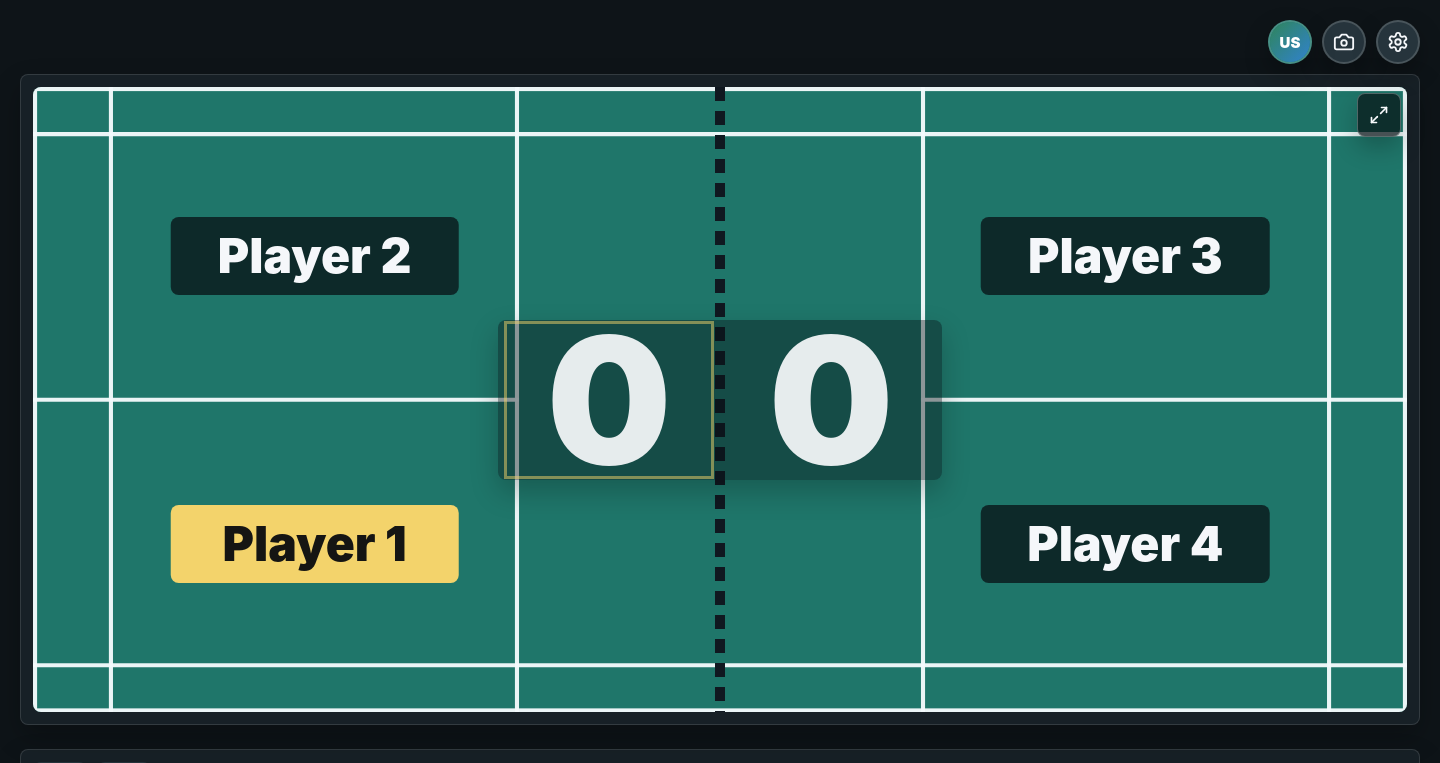
App › awards a point to Team A from the court score
What coordinates should you click on to do the following:
click the button named "award point to team a, score 0"
I would click on:
 (609, 400)
Its box is [498,320,720,480].
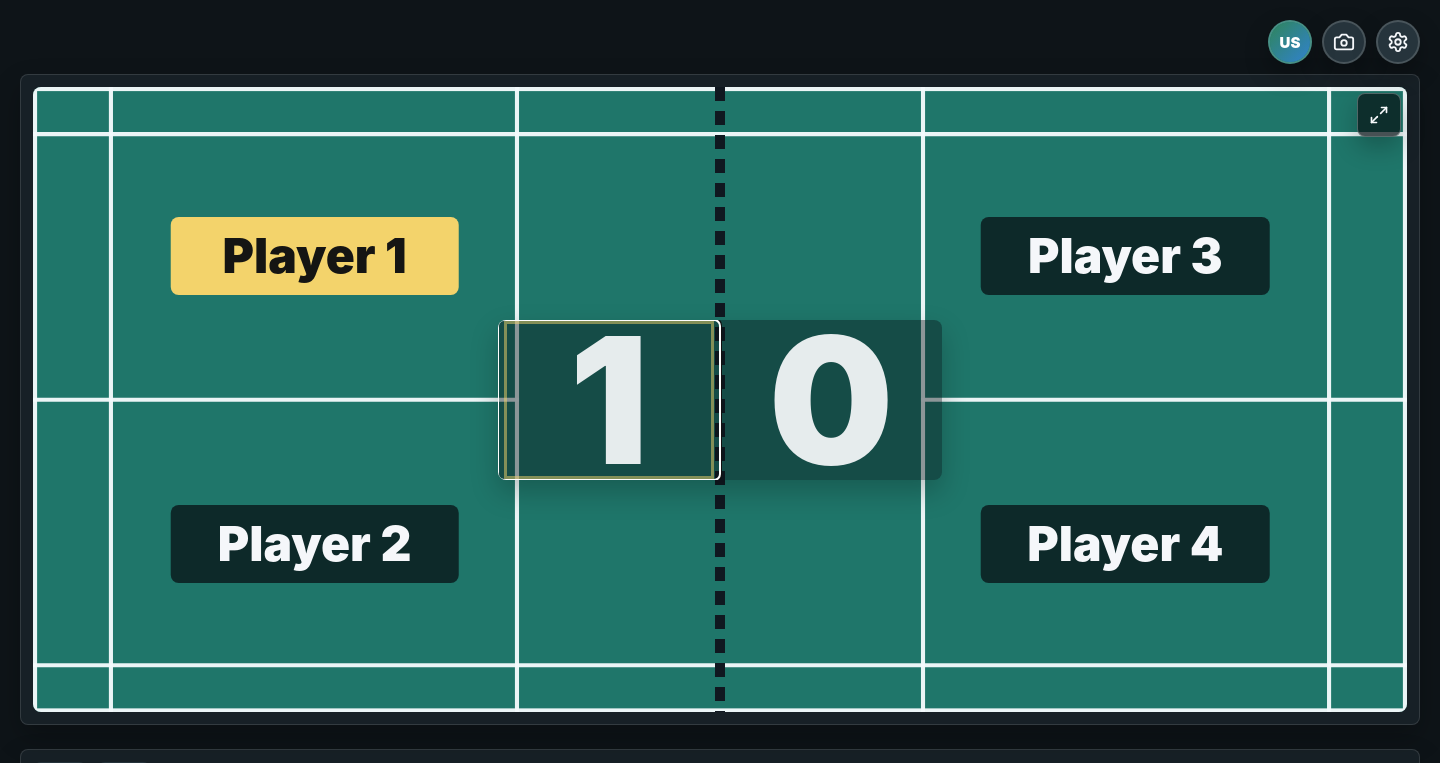
Expected: the button with test id "score-teamB" reads "0", [720,320,942,480]
Expected: the button with test id "score-teamA" reads "1", [498,320,720,480]
